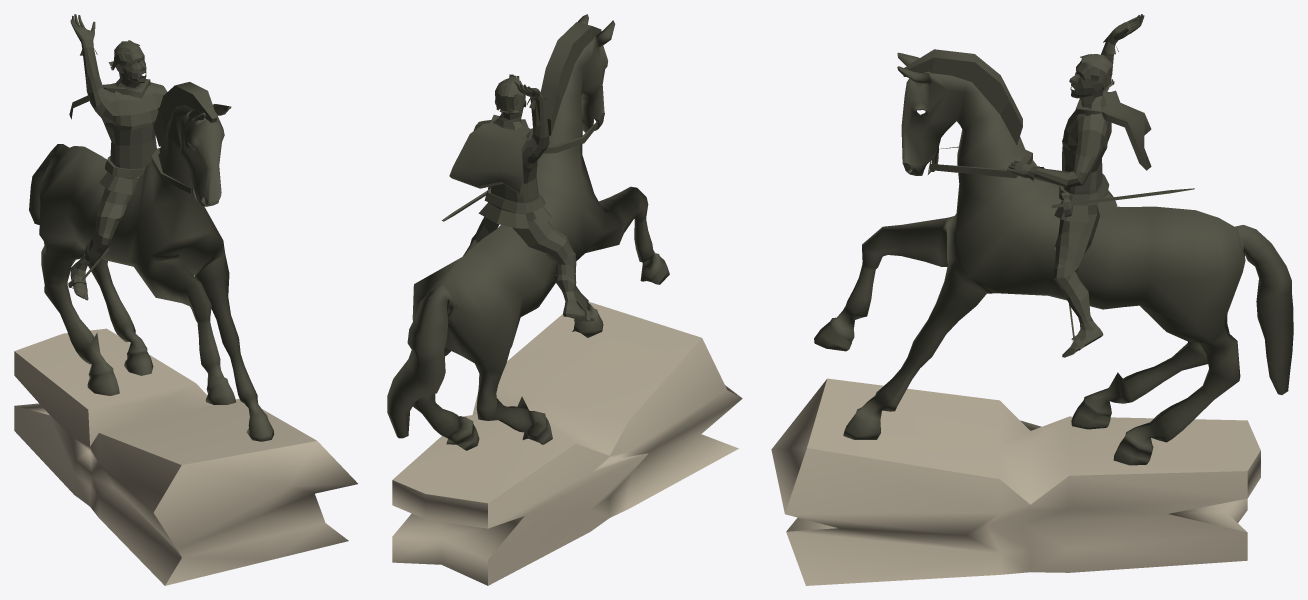
The picture shows the model from 3 angles, left to right: view 1: azimuth 30°, elevation 25°; view 2: azimuth 150°, elevation 25°; view 3: azimuth 270°, elevation 25°; orthographic projection. The views are drawn at different scales.
Parts seen in each view (by area): view 1: polySurface5:PIV; view 2: polySurface5:PIV; view 3: polySurface5:PIV.
Boxes of the visible parts, x1,y1,x2,y2 form: polySurface5:PIV: (14,14,357,585); polySurface5:PIV: (387,14,742,585); polySurface5:PIV: (771,14,1293,585).
Bounding box in the file's own units: 13.7 × 31.6 × 29.69.
